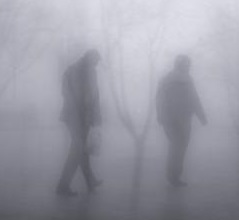person: (47, 48, 113, 199), (147, 51, 210, 189)
